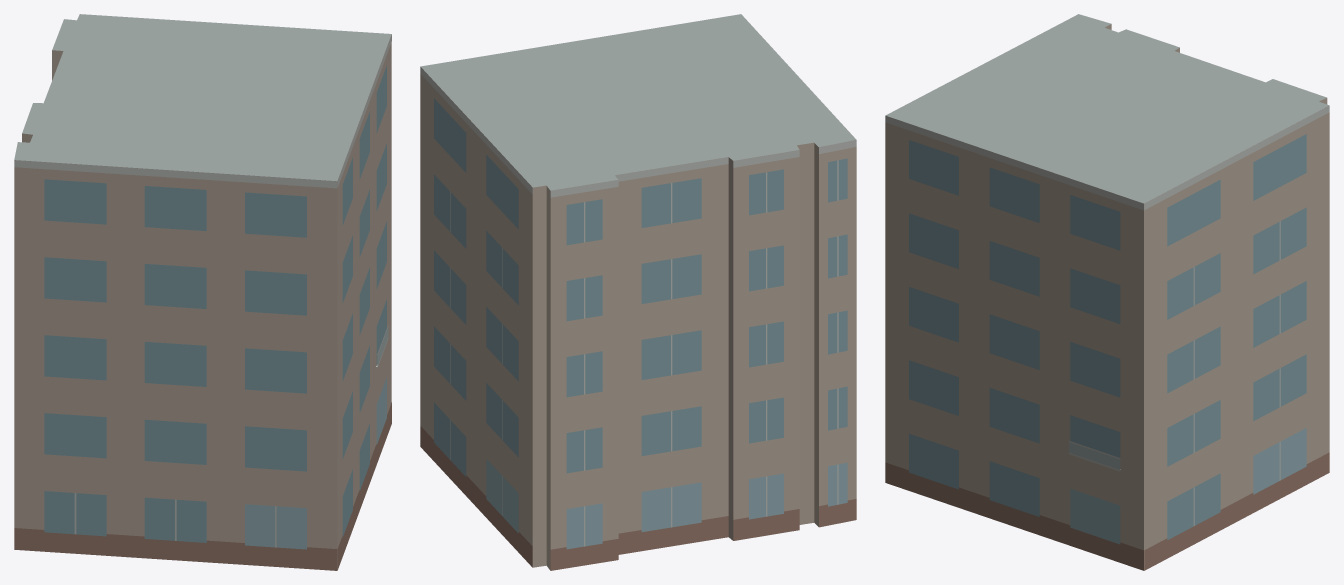
File: survey-upis-32879942.glb
3 renders of one model, left to right at view 1: azimuth 30°, elevation 25°; view 2: azimuth 150°, elevation 25°; view 3: azimuth 270°, elevation 25°, orthographic. The views are drawn at different scales.
Visible parts, largest first — view 1: survey-upis-32879942.tmp; view 2: survey-upis-32879942.tmp; view 3: survey-upis-32879942.tmp.
Boxes of the visible parts, x1,y1,x2,y2 form: survey-upis-32879942.tmp: [14, 14, 391, 570]; survey-upis-32879942.tmp: [420, 14, 856, 570]; survey-upis-32879942.tmp: [885, 14, 1329, 570].
Bounding box in the file's own units: 14.63 × 13.2 × 14.48.
